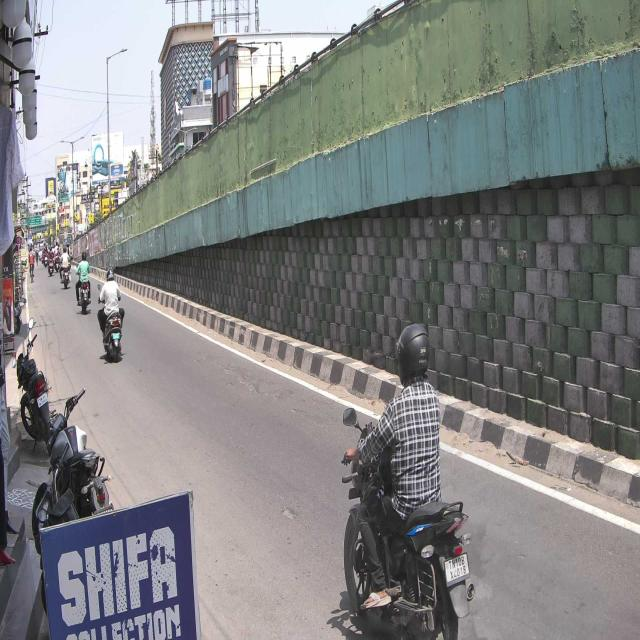single_rider: (340, 323, 474, 640)
